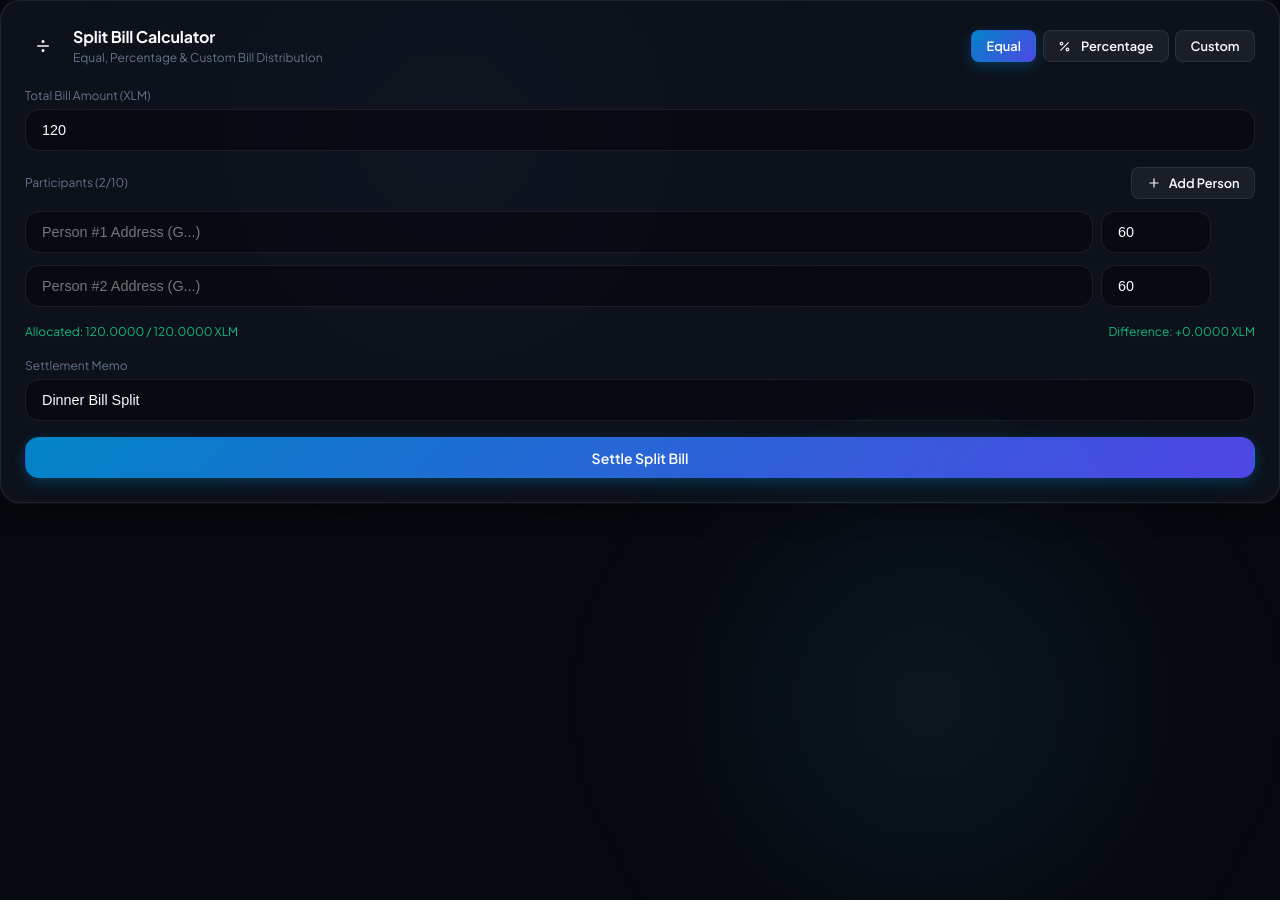
Batch 8 Frontend Components & Utilities › Item 141: Percentage Mode in SplitBillForm › switches to percentage mode and recalculates shares
Click the button with test id "split-mode-percentage" at (1106, 46), box [1042,30,1169,62]
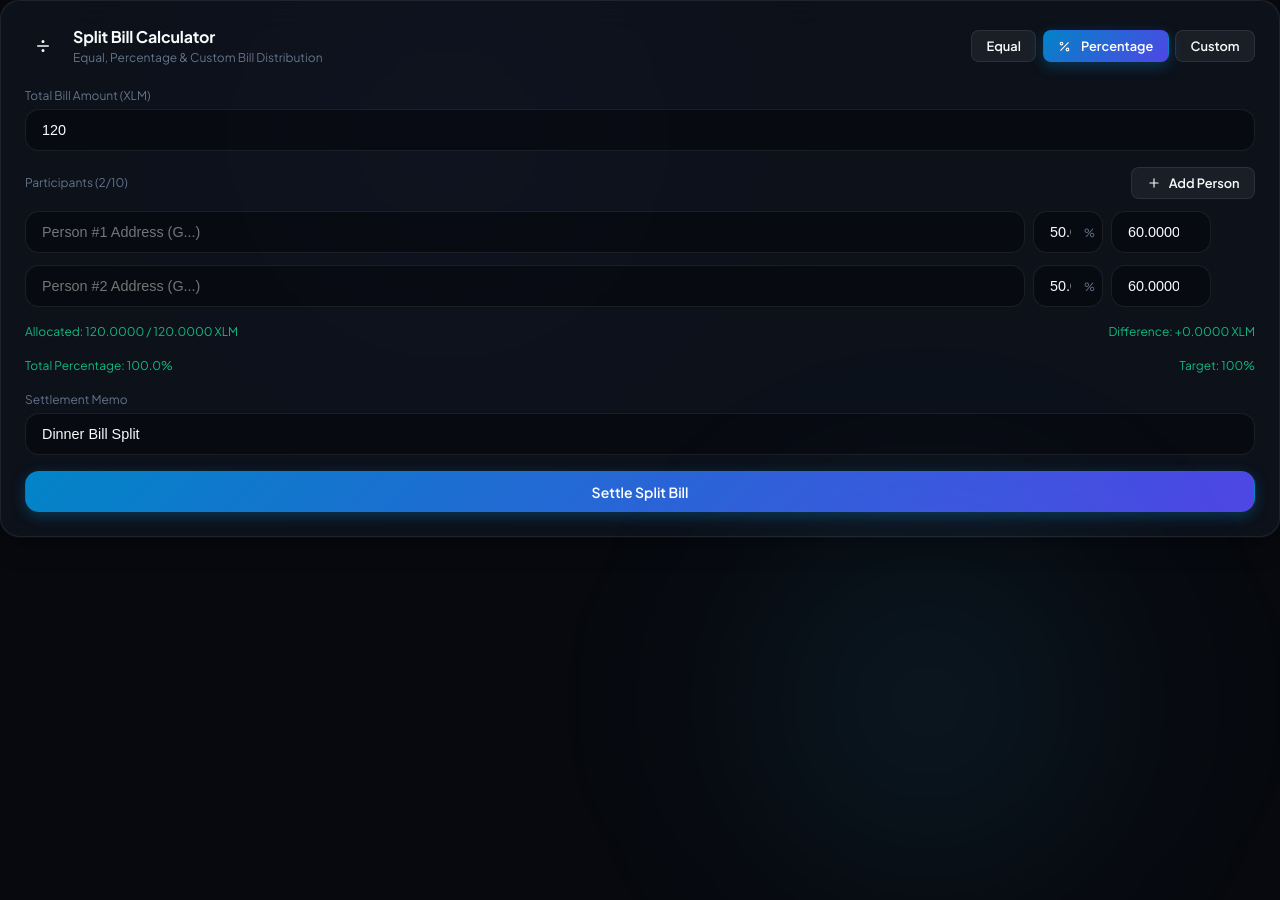
Check: the number field with test id "split-pct-0" is shown, box [1033,211,1103,253]
Check: the number field with test id "split-pct-1" is shown, box [1033,265,1103,307]
Check: the text "Total Percentage: 100.0%" is shown, box [25,357,173,375]
